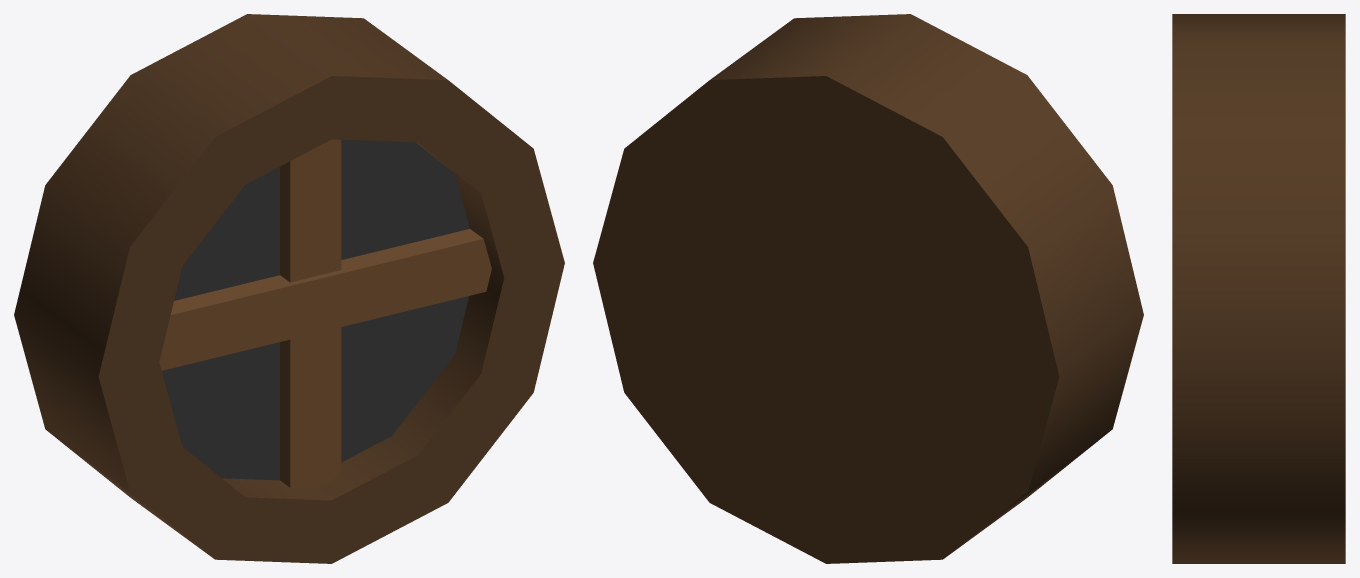
Rendered from Window_1.glb.
3 views of the same model, side by side, from view 1: azimuth 30°, elevation 25°; view 2: azimuth 150°, elevation 25°; view 3: azimuth 270°, elevation 25° (orthographic). The views are drawn at different scales.
Parts seen in each view (by area): view 1: Window_1; view 2: Window_1; view 3: Window_1.
Part boxes in pixels (box(x1,y1,x2,y2)): Window_1: box(14, 14, 564, 563); Window_1: box(593, 14, 1143, 563); Window_1: box(1172, 14, 1345, 563).
Bounding box in the file's own units: 0.3797 × 0.3797 × 0.1193.
